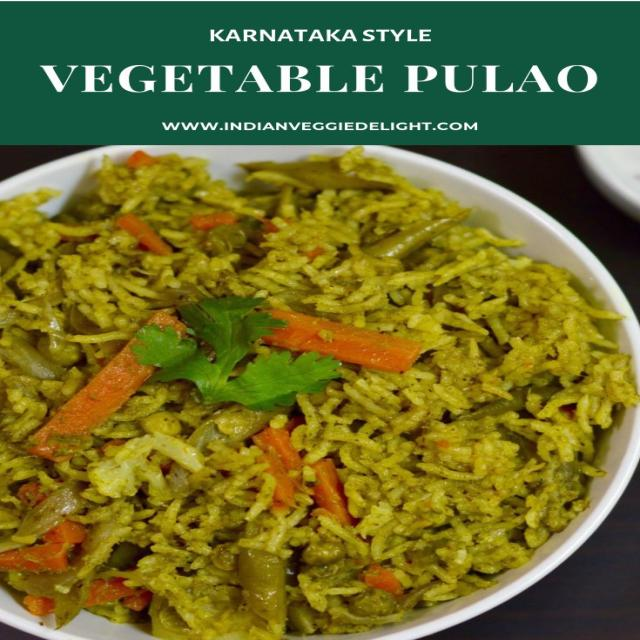veg palav: (0, 141, 640, 640)
